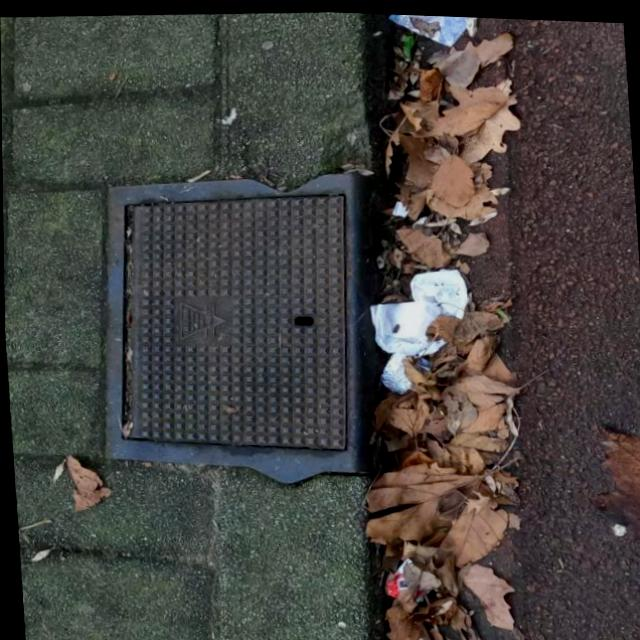Can-Metal: (366, 261, 473, 357), (379, 551, 430, 601)
Plastic: (386, 11, 484, 47)
